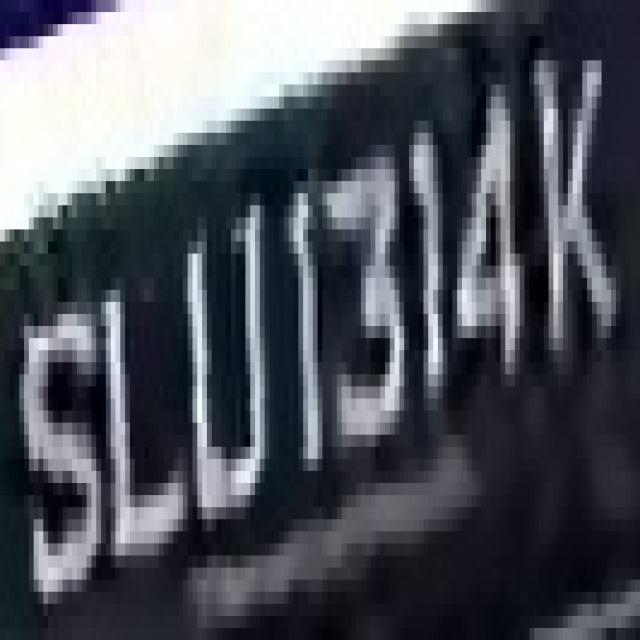1: (269, 169, 337, 507), (409, 108, 462, 434)
3: (318, 145, 409, 471)
4: (448, 61, 520, 410)
K: (534, 37, 621, 374)
L: (96, 242, 192, 556)
S: (19, 278, 96, 616)
U: (169, 194, 279, 544)
